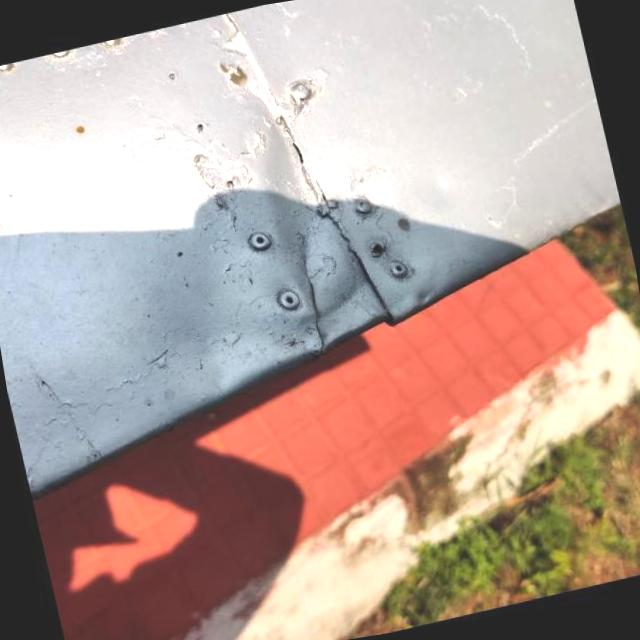Missing Fastener: (360, 234, 405, 274)
dent: (215, 106, 348, 294)
